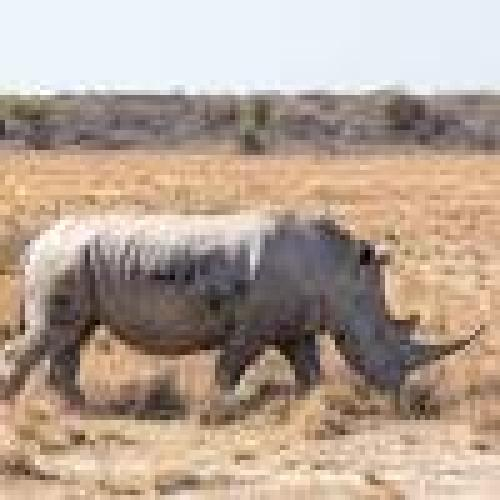rhino-endangered: (0, 218, 478, 405)
